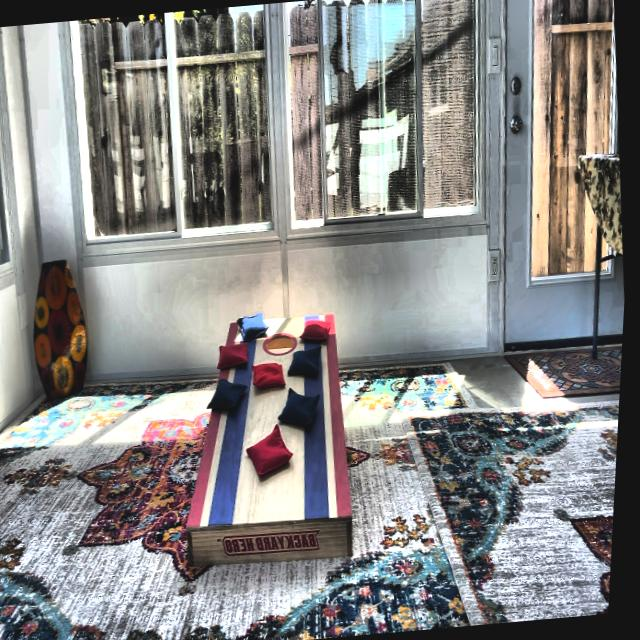blue-bean-bag: (279, 386, 325, 431), (208, 376, 254, 412), (239, 311, 274, 344)
board: (211, 312, 357, 528)
hole: (265, 330, 303, 357)
red-bean-bag: (247, 423, 301, 481), (219, 339, 253, 372), (255, 360, 290, 390), (303, 318, 336, 342)
